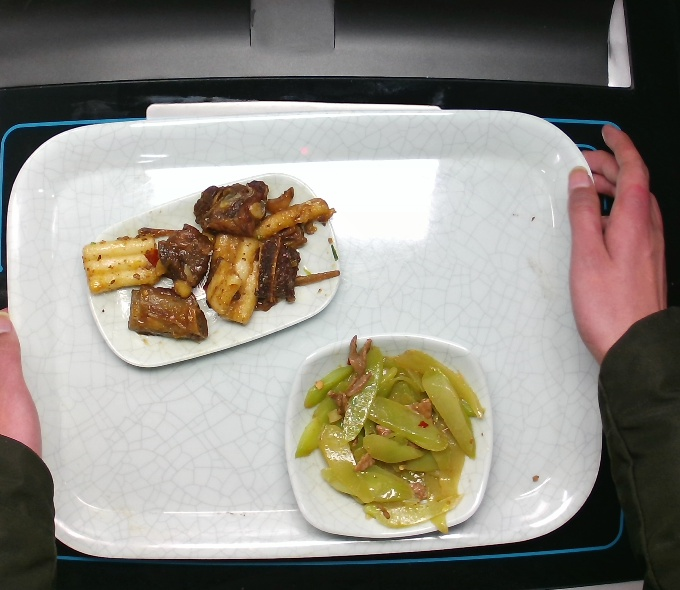wcq-NianGaoZaiPai: (78, 177, 342, 346)
wcq-WoSun: (292, 332, 487, 539)
